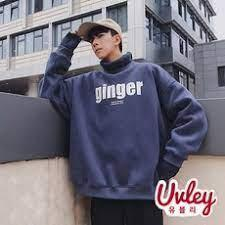sweater: (36, 36, 194, 197)
